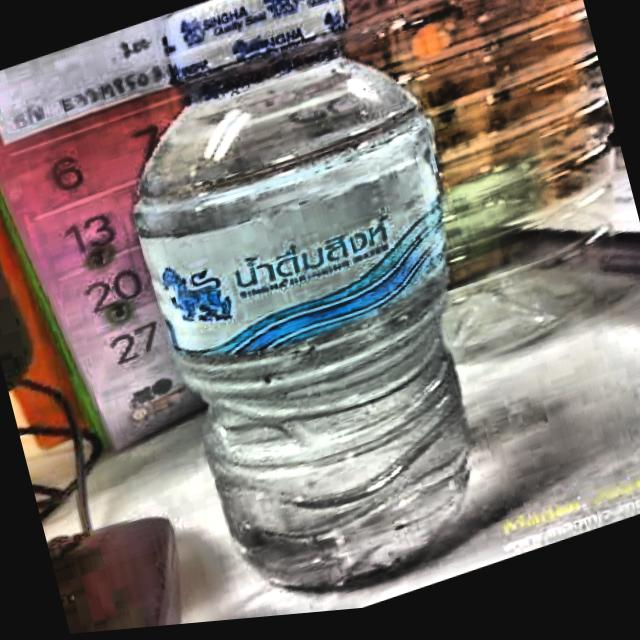Bottles: (77, 0, 512, 635)
